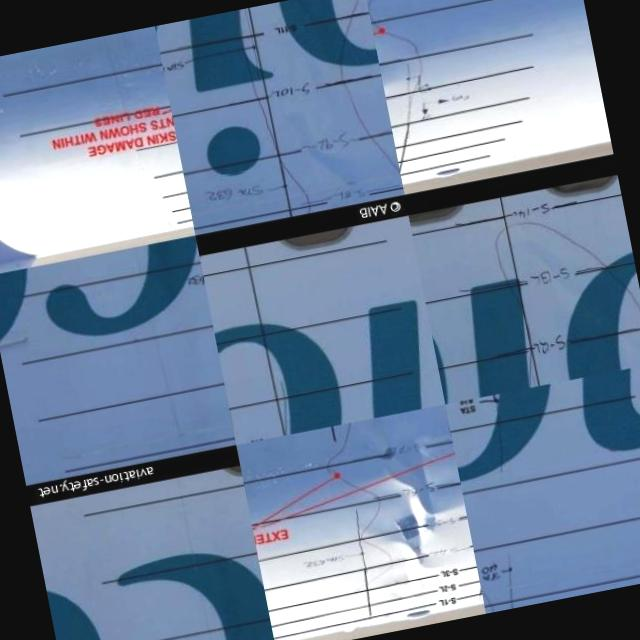dent: (346, 436, 486, 628)
